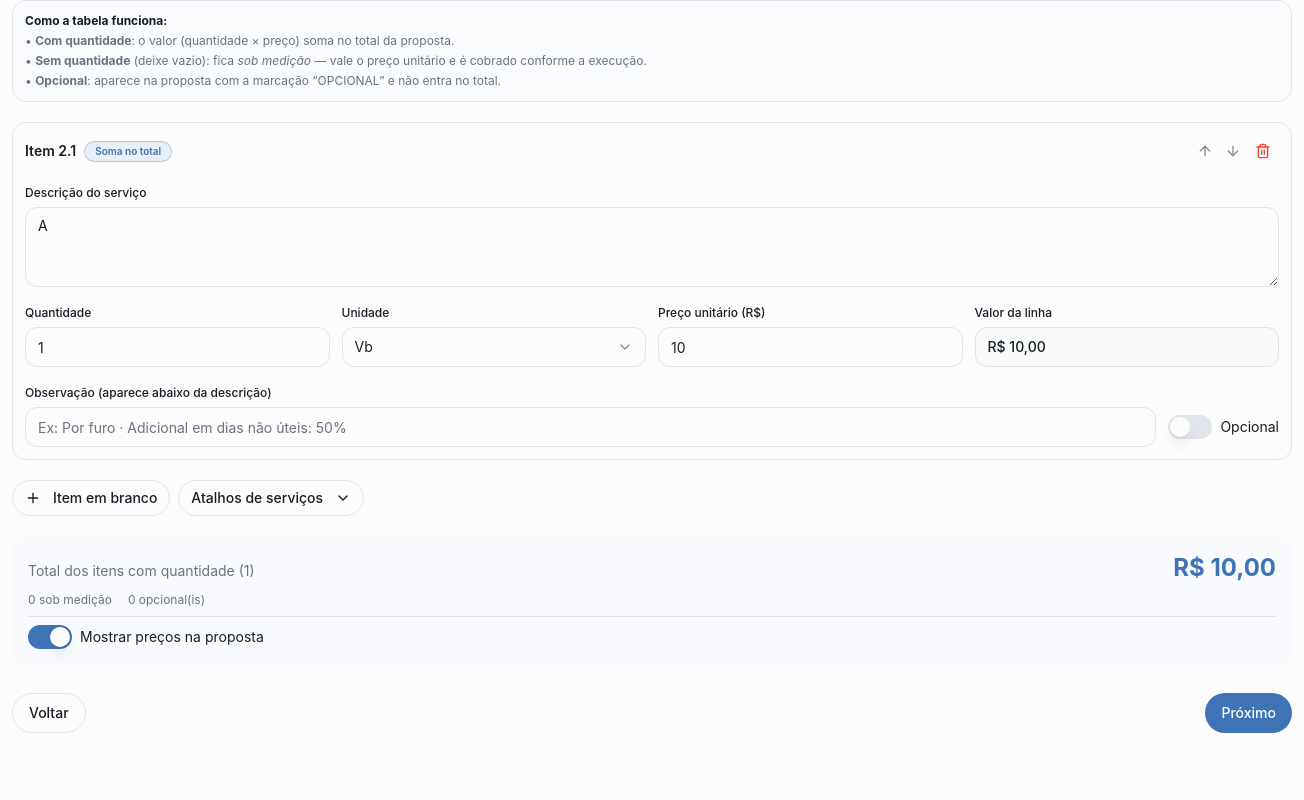
it: etapa de preços › quantidade quebrada é arredondada (a coluna do banco é inteira)
This screenshot has width=1304, height=800.
Replace the text in the 1st number field with placeholder "sob medição" with "2.6" at (177, 347), box [25,327,330,367]
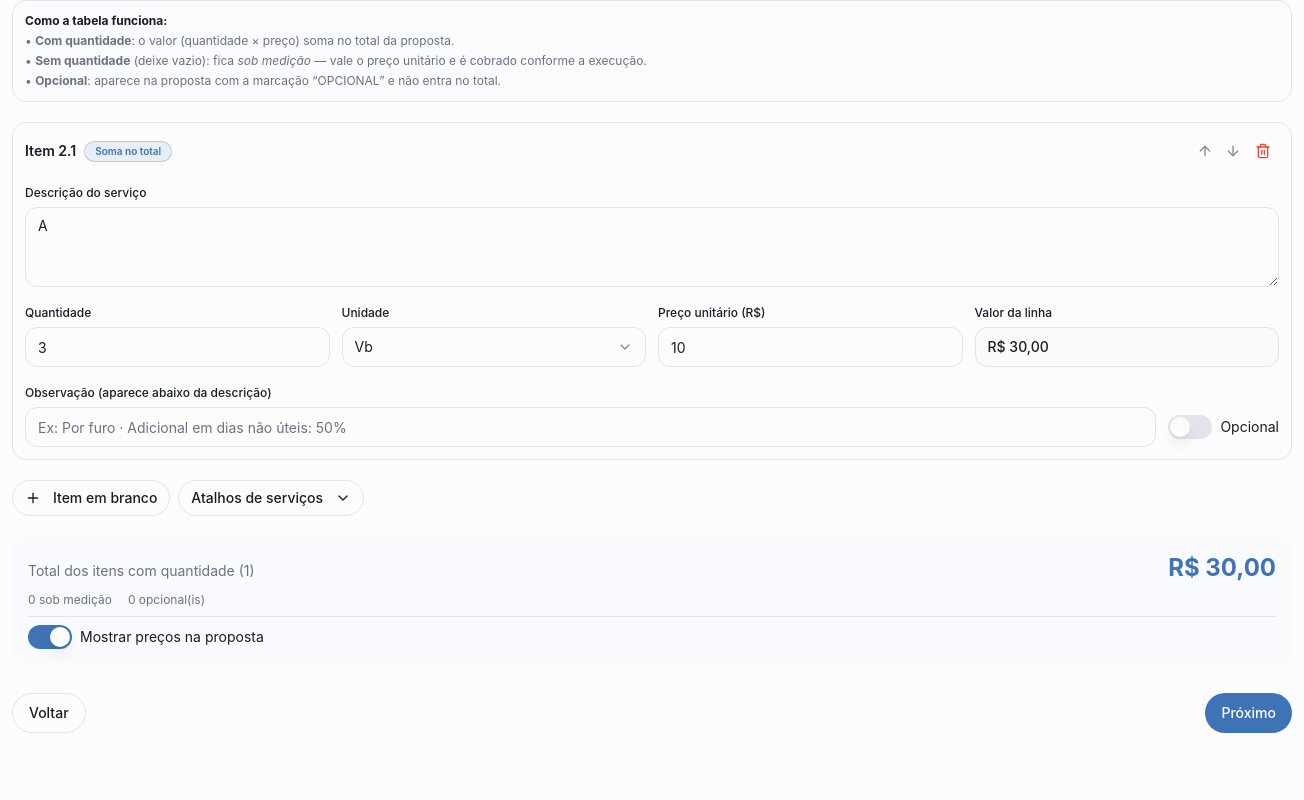
Now the 1st number field with placeholder "sob medição" holds "3", box [25,327,330,367]
